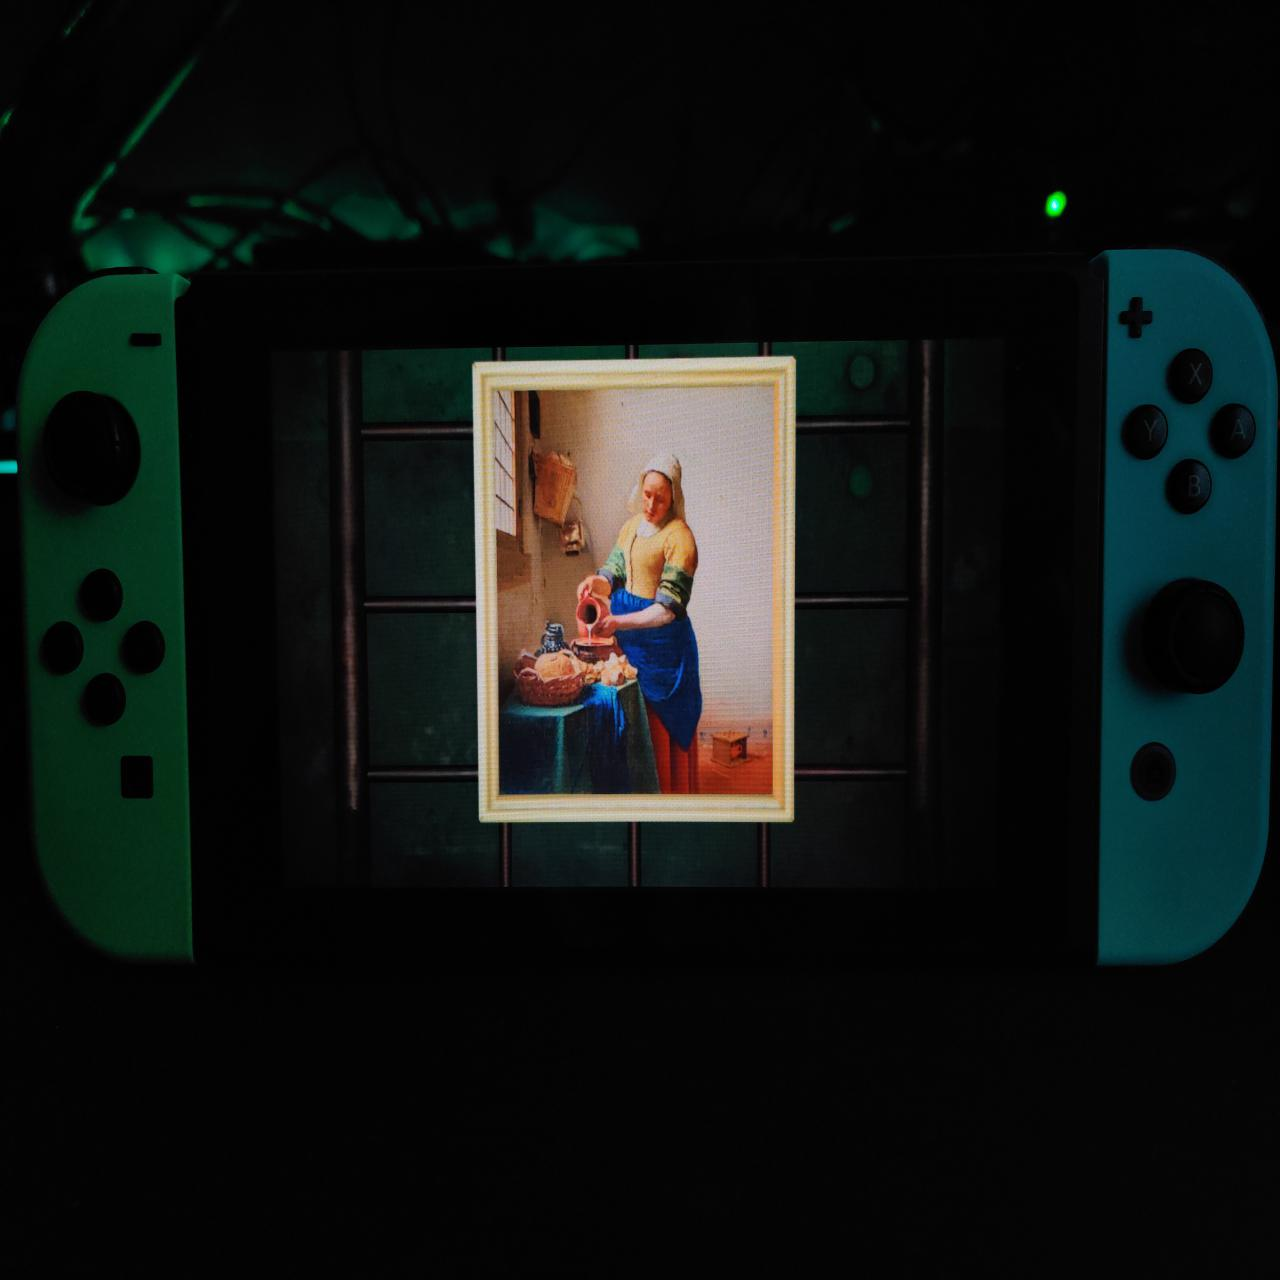Milkmaid: (493, 389, 776, 794)
